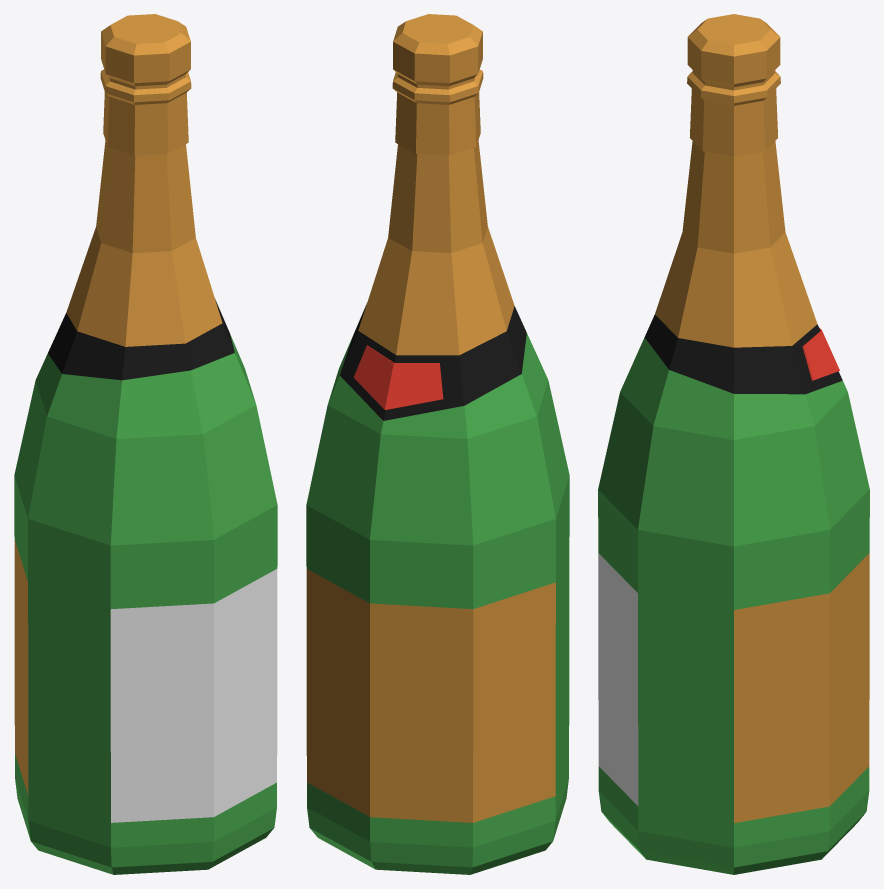
File: Champagne.glb
3 views of the same model, side by side, from view 1: azimuth 30°, elevation 25°; view 2: azimuth 150°, elevation 25°; view 3: azimuth 270°, elevation 25° (orthographic).
Visible parts, largest first — view 1: Bottle_of_Champagne_Circle.009; view 2: Bottle_of_Champagne_Circle.009; view 3: Bottle_of_Champagne_Circle.009.
Part boxes in pixels (x1=…): Bottle_of_Champagne_Circle.009: x1=14, y1=14, x2=277, y2=874; Bottle_of_Champagne_Circle.009: x1=306, y1=14, x2=569, y2=874; Bottle_of_Champagne_Circle.009: x1=598, y1=14, x2=869, y2=874.
Size of the model in its own units: 3.1 by 9.98 by 3.1.
